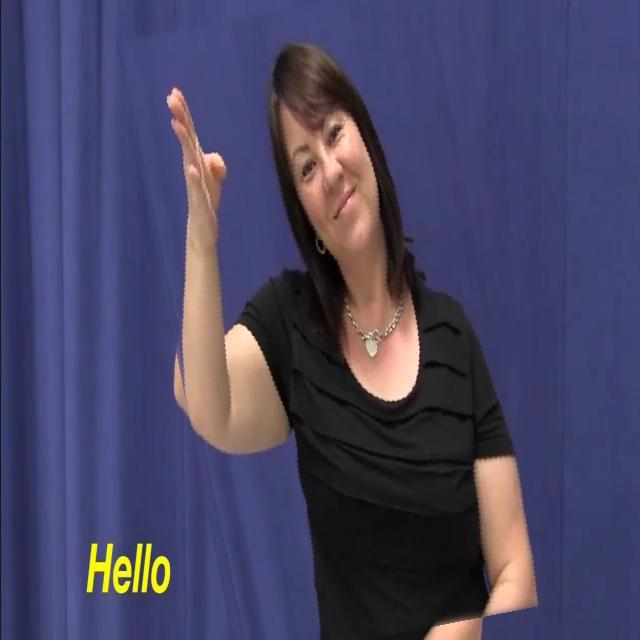Hello: (145, 0, 518, 640)
